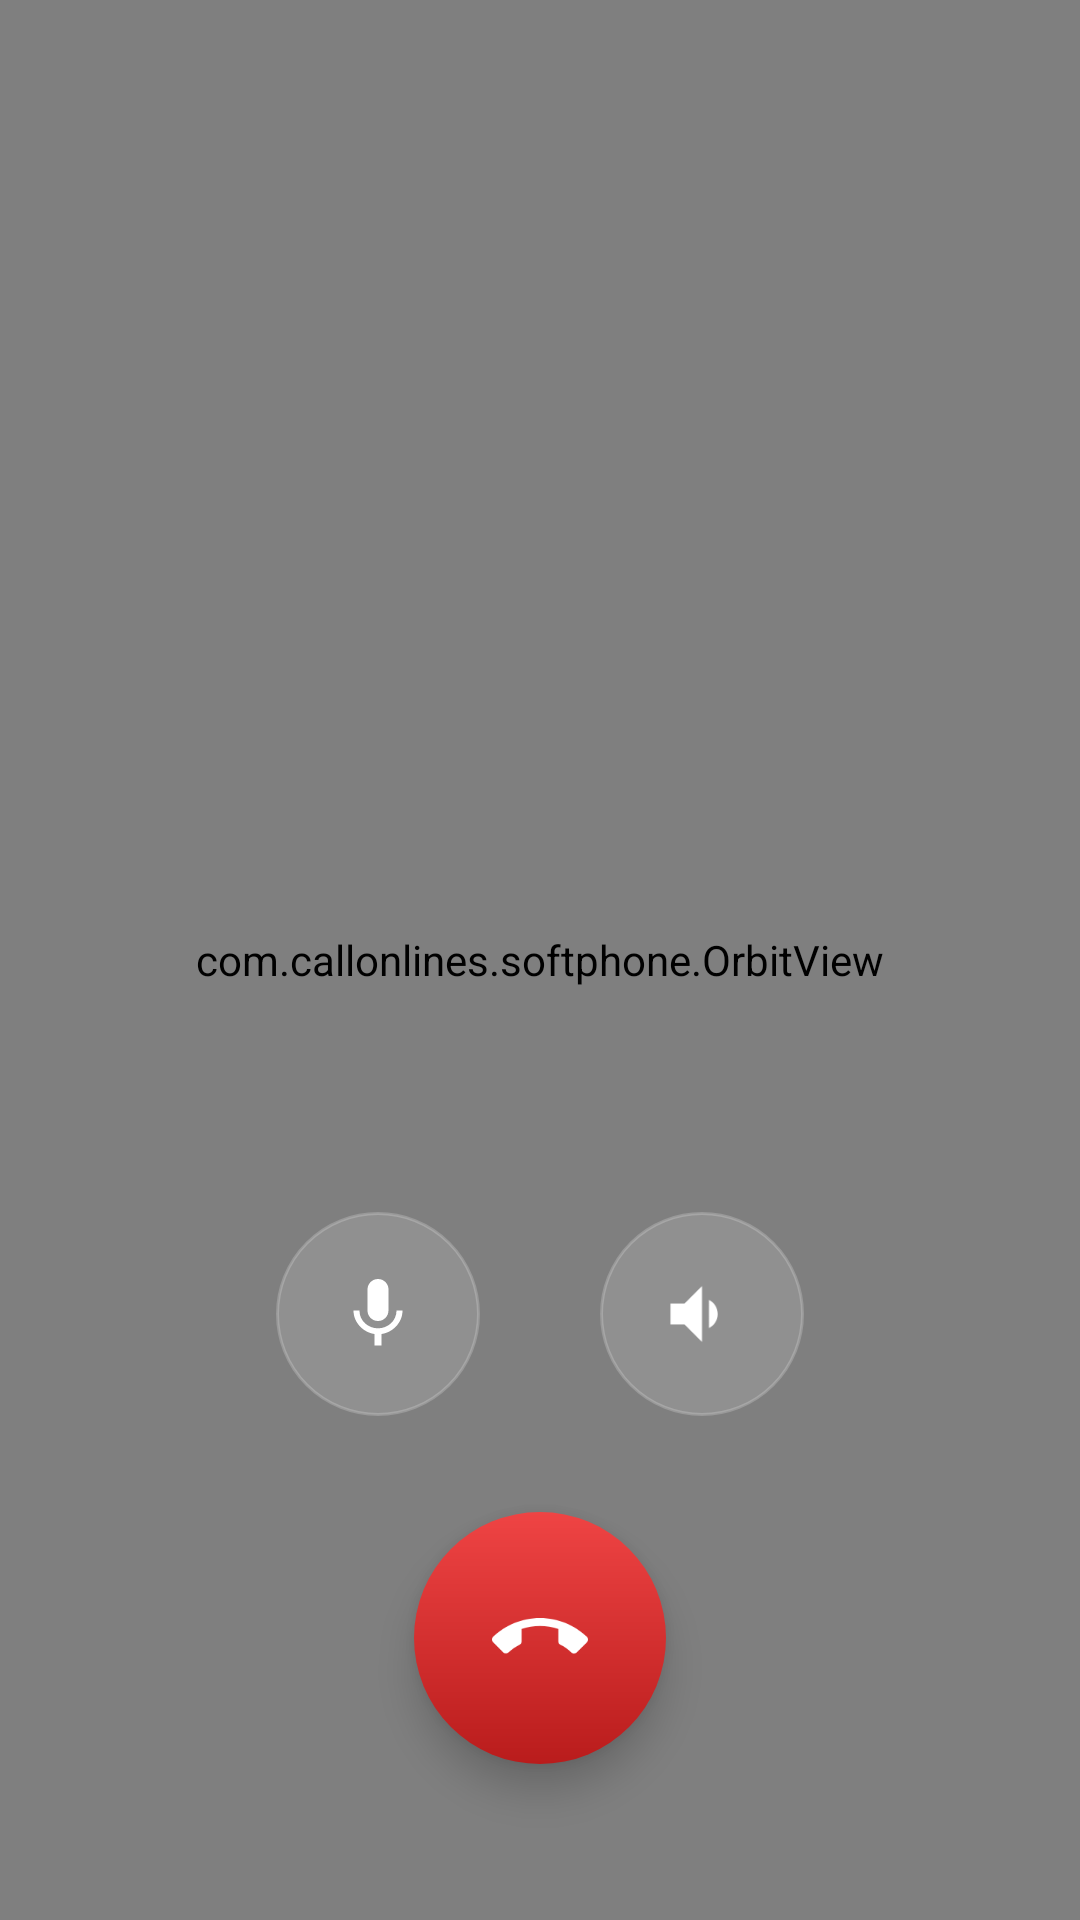

Locate icon controls on the screen. Image size 1080px×1920px, boxes as BBox(x1, y1, x2, y2).
Altavoz: BBox(600, 1212, 804, 1416)
Colgar: BBox(414, 1512, 666, 1764)
Mute: BBox(276, 1212, 480, 1416)
